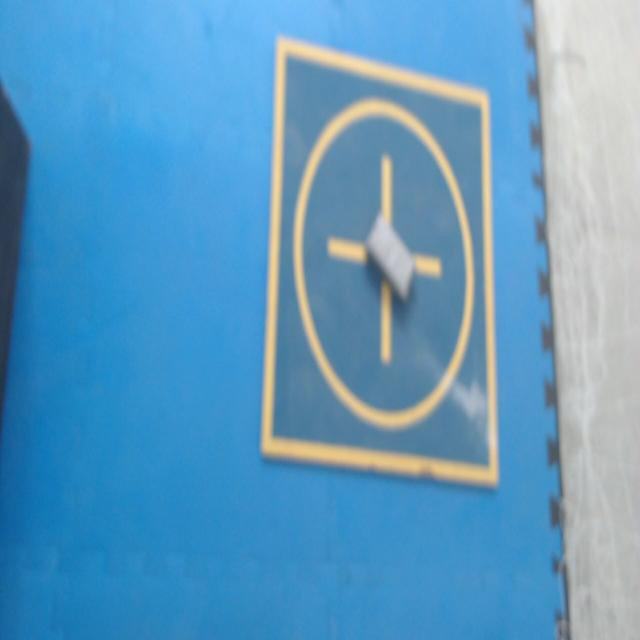esquerda: (366, 214, 414, 300)
